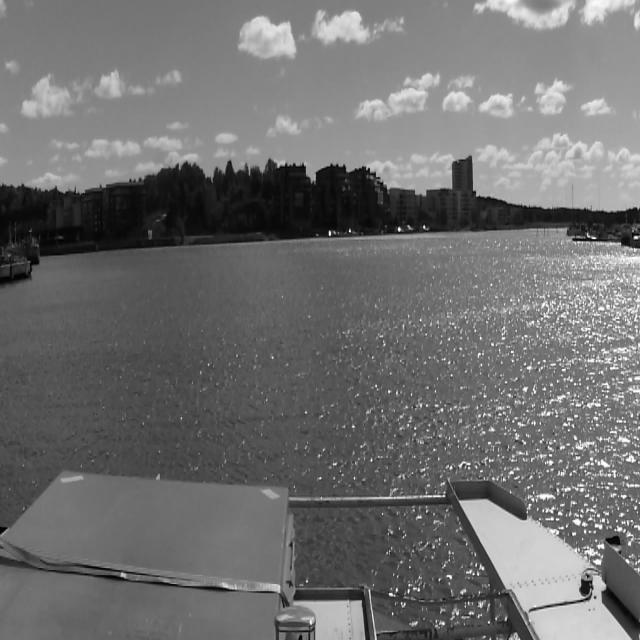ship: (401, 220, 413, 234), (394, 225, 404, 232)
